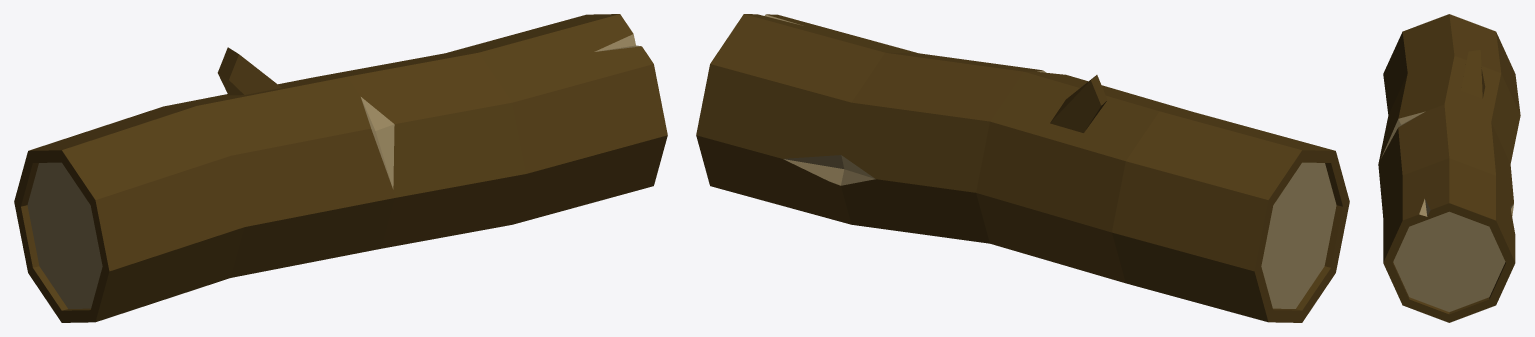
The model's file is Log.fbx.
3 renders of one model, left to right at view 1: azimuth 30°, elevation 25°; view 2: azimuth 150°, elevation 25°; view 3: azimuth 270°, elevation 25°, orthographic. The views are drawn at different scales.
Parts seen in each view (by area): view 1: Log; view 2: Log; view 3: Log.
Part boxes in pixels (x1,y1,x2,y2): Log: [14, 14, 667, 322]; Log: [696, 14, 1349, 322]; Log: [1378, 14, 1520, 322].
Size of the model in its own units: 81.45 by 30.3 by 25.9.
